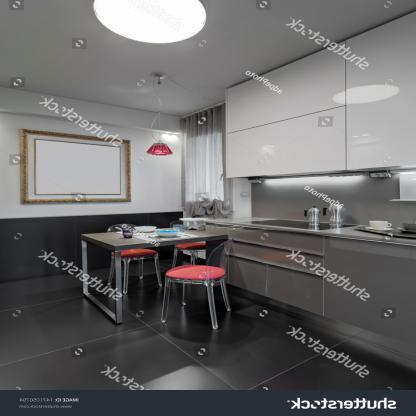chair: (164, 241, 242, 324), (99, 218, 162, 291), (168, 218, 208, 266)
light: (86, 0, 216, 53)
table: (76, 228, 216, 317)
